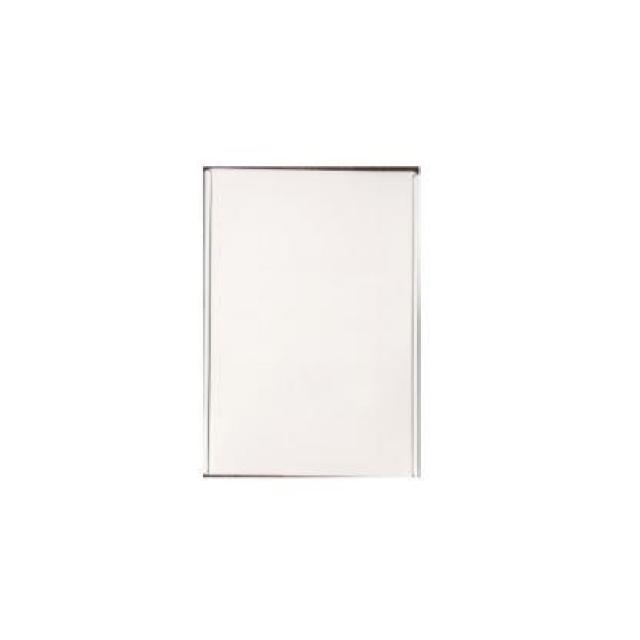cardboxes: (205, 170, 417, 476)
